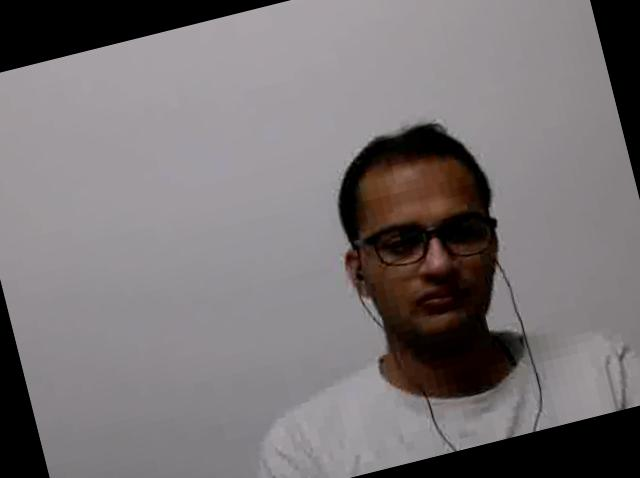bingung: (342, 154, 510, 350)
